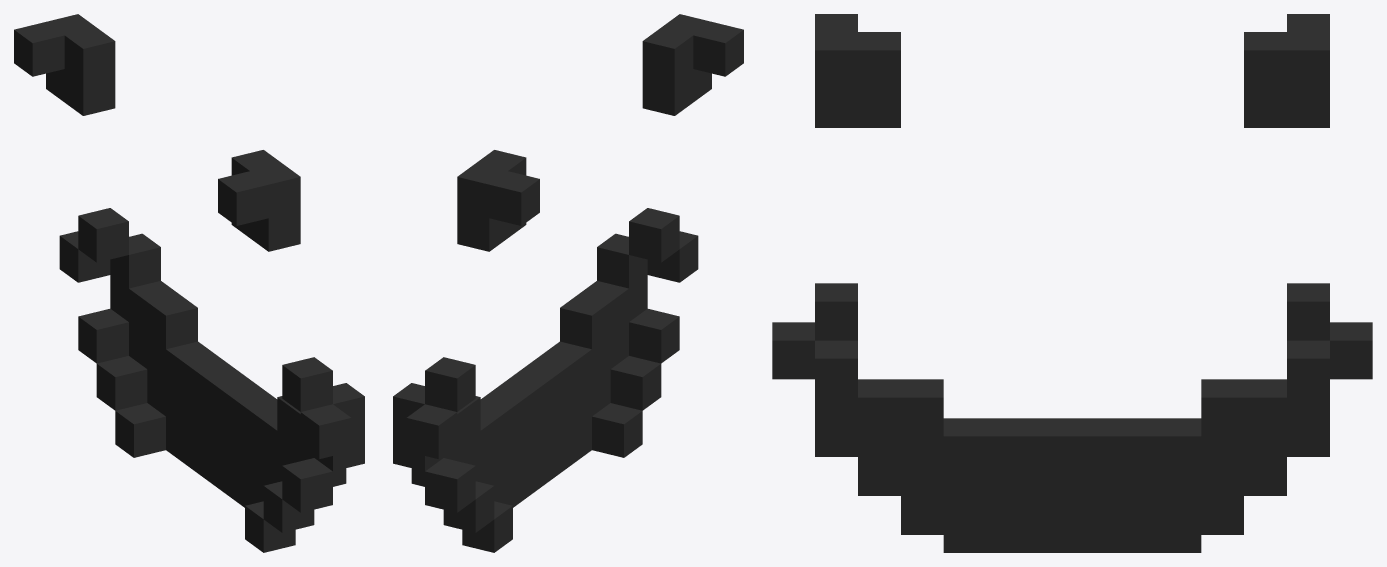
The model's file is BombSmile.obj.
The picture shows the model from 3 angles, left to right: view 1: azimuth 30°, elevation 25°; view 2: azimuth 150°, elevation 25°; view 3: azimuth 270°, elevation 25°; orthographic projection. The views are drawn at different scales.
Bounding box in the file's own units: 0.4 × 1.2 × 1.4.
Materials: 1 (1 with a texture image).
